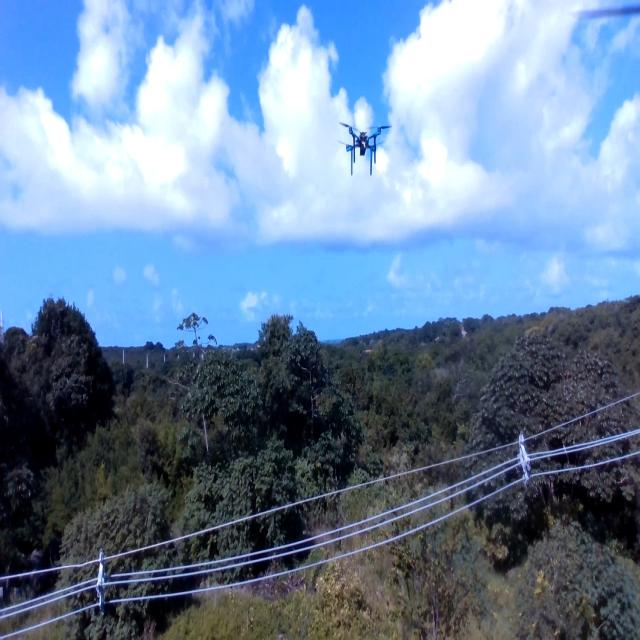-uav-: (330, 106, 397, 183)
